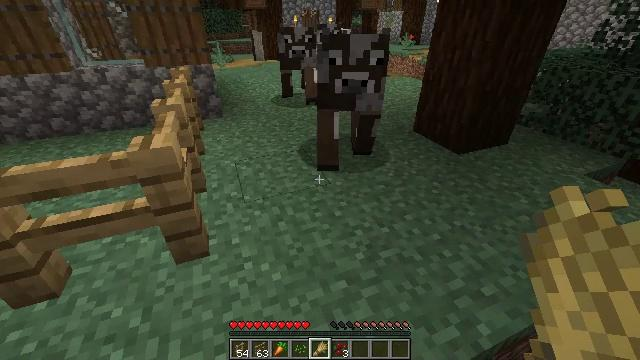cow: (314, 31, 391, 169), (278, 27, 323, 100)
